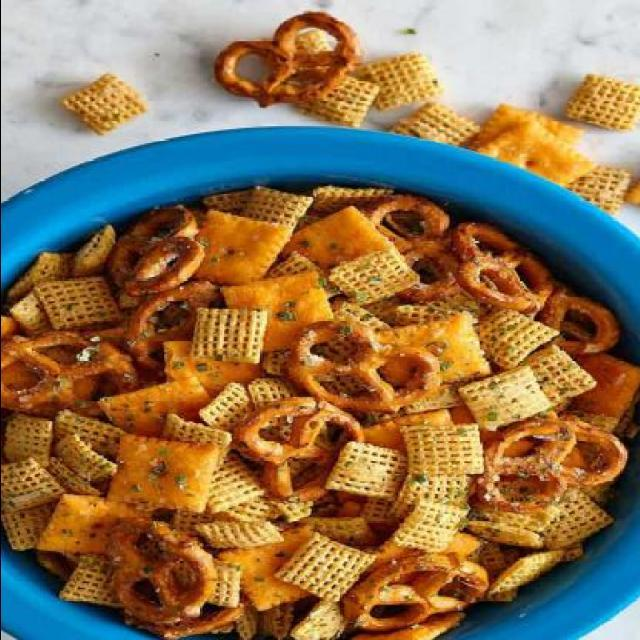Salatini packaged: (7, 174, 616, 611)
